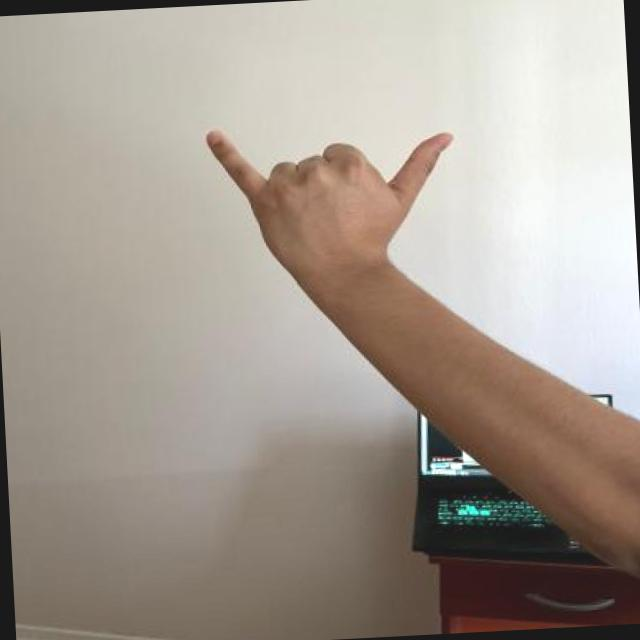Y: (200, 111, 468, 288)
